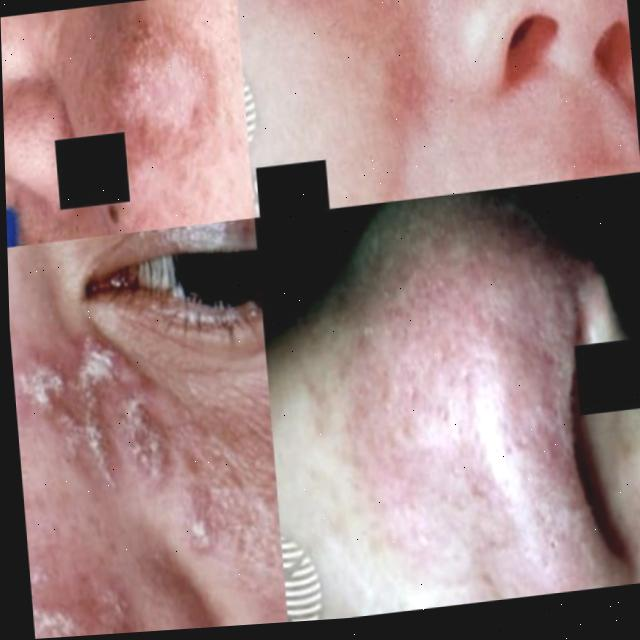lupus-detected: (253, 170, 640, 624), (7, 215, 288, 640), (235, 0, 640, 217), (88, 11, 252, 203)
